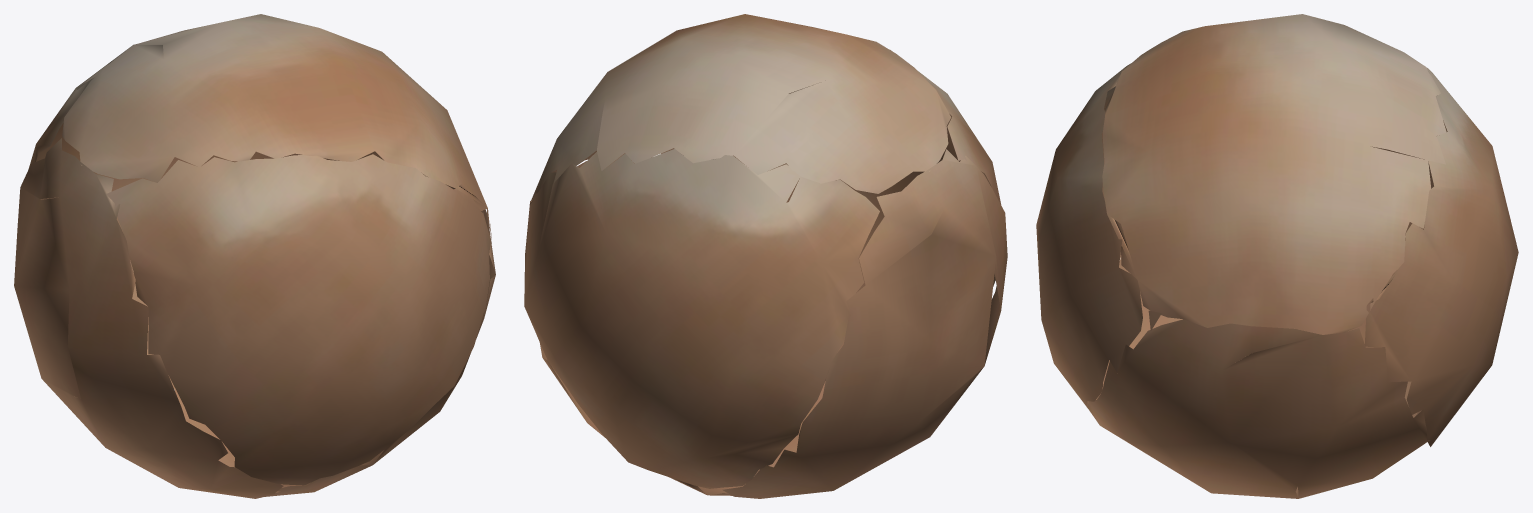
File: peg.glb
The picture shows the model from 3 angles, left to right: view 1: azimuth 30°, elevation 25°; view 2: azimuth 150°, elevation 25°; view 3: azimuth 270°, elevation 25°; orthographic projection.
Visible parts, largest first — view 1: Peg; view 2: Peg; view 3: Peg.
Boxes of the visible parts, x1,y1,x2,y2 form: Peg: (14, 14, 495, 498); Peg: (524, 14, 1007, 498); Peg: (1036, 14, 1518, 498).
Bounding box in the file's own units: 0.9998 × 0.9931 × 1.
1 material, 1 textured.
